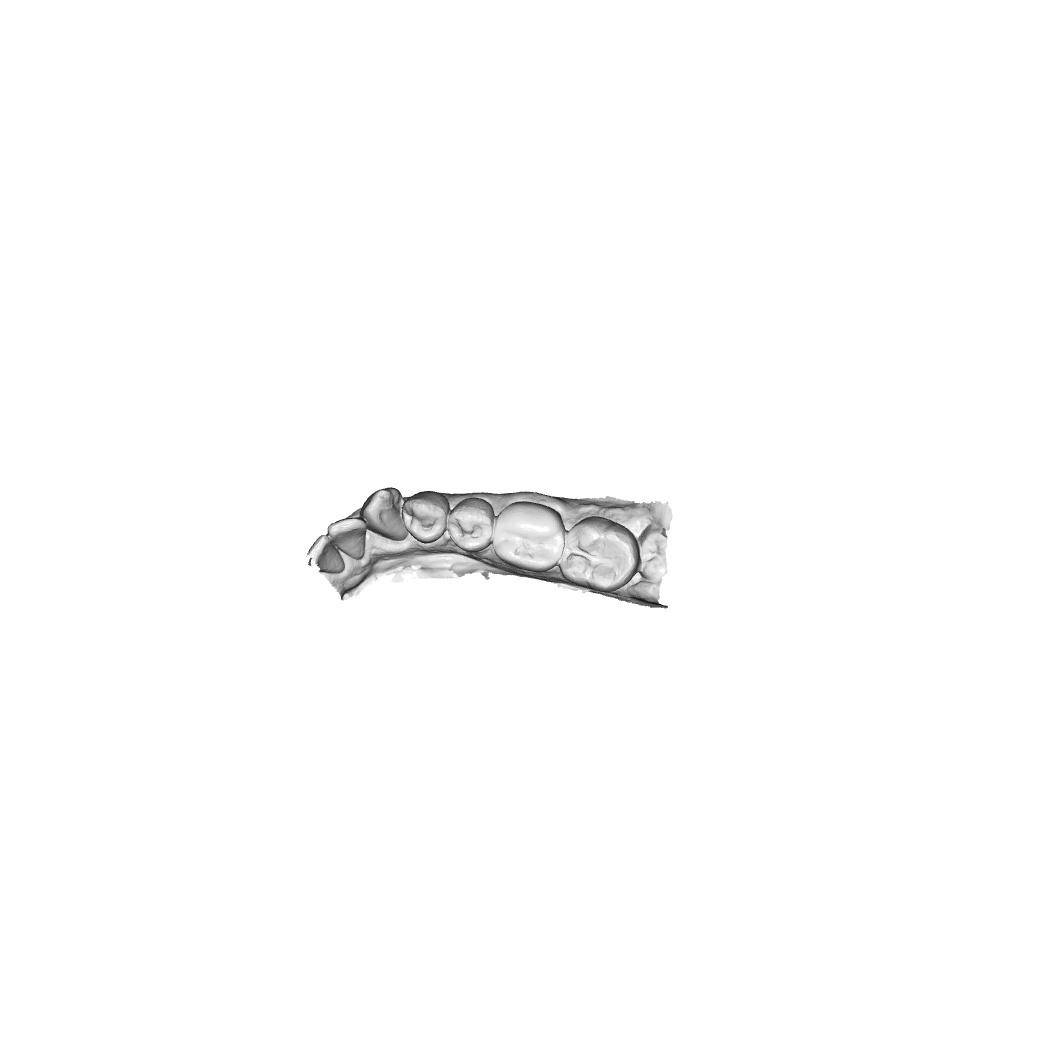canine: (360, 485, 409, 542)
incisor: (326, 516, 368, 562), (307, 534, 347, 575)
molar: (558, 515, 642, 593), (491, 500, 563, 573)
premolar: (446, 496, 495, 554), (400, 490, 450, 545)
